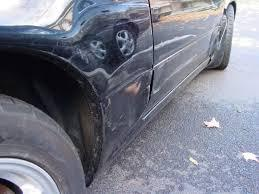fender-dent: (37, 0, 153, 142)
